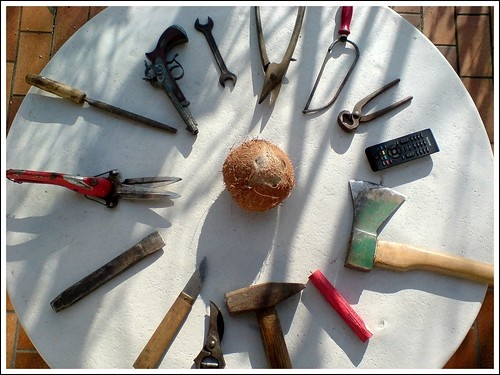hammer: (223, 279, 304, 368)
